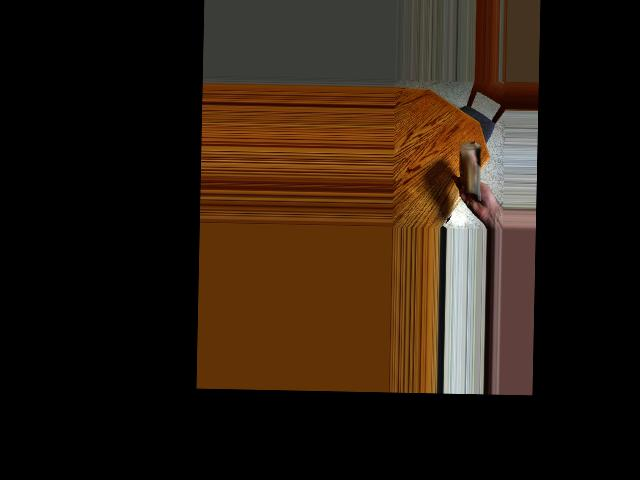cheese: (456, 145, 492, 197)
